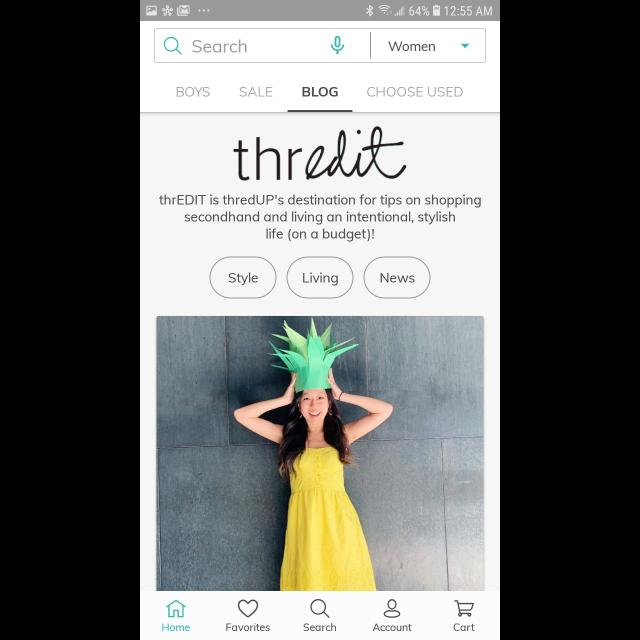icon: (310, 598, 330, 618), (166, 599, 186, 617), (238, 599, 258, 617), (384, 598, 401, 618), (454, 600, 474, 616), (164, 37, 182, 54), (331, 37, 345, 55), (460, 44, 470, 48)
image: (156, 316, 484, 592), (233, 126, 407, 180)
input: (154, 28, 486, 64)
text: (159, 194, 481, 242), (367, 87, 463, 97), (193, 40, 247, 52), (388, 41, 436, 51), (226, 622, 270, 632), (177, 87, 211, 97), (304, 87, 338, 97), (304, 622, 336, 632), (372, 623, 412, 631), (240, 87, 272, 97), (162, 623, 190, 631), (454, 623, 474, 631)
textbutton: (286, 257, 354, 299), (364, 257, 431, 299), (210, 257, 276, 299)
uppertaskbar: (140, 1, 500, 22)
